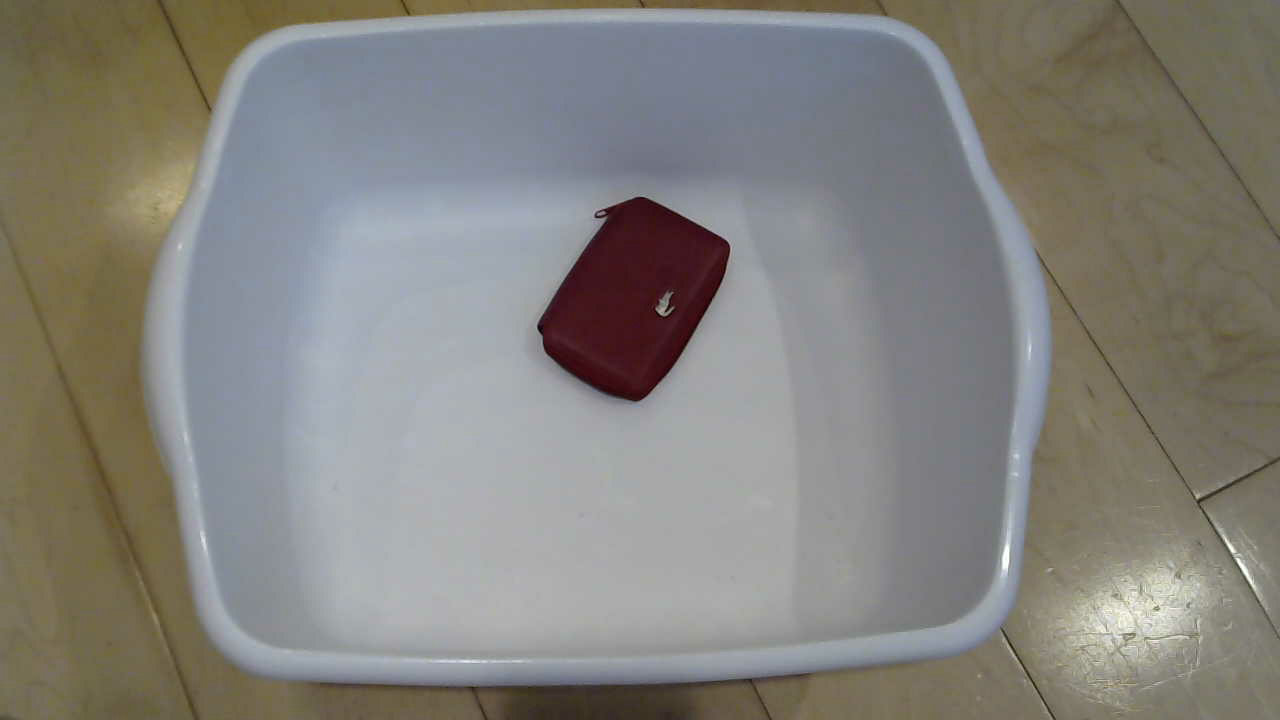wallet: (526, 182, 762, 422)
